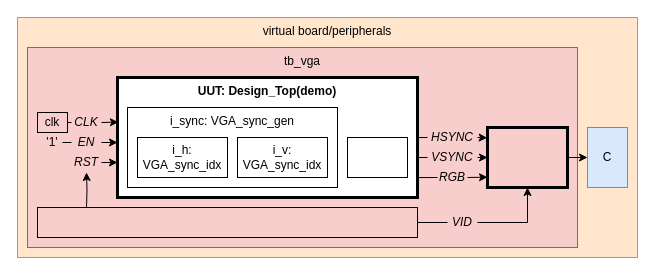
Some shapes in this 655 by 275 pixel diagram are drawn without their labels. The centre of each missing label's shape, as x and y in pixels:
"pattern" belongs at point 377,157.
"proc_main" belongs at point 227,222.
"VIRT_VGA: VGA_screen VHPIDIRECT" belongs at point 527,157.
